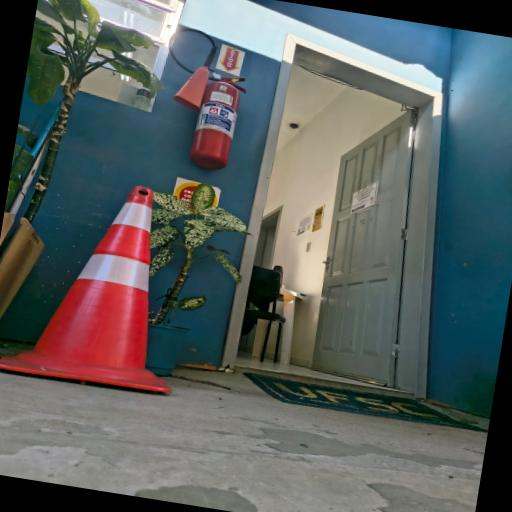cone: (0, 161, 207, 404)
